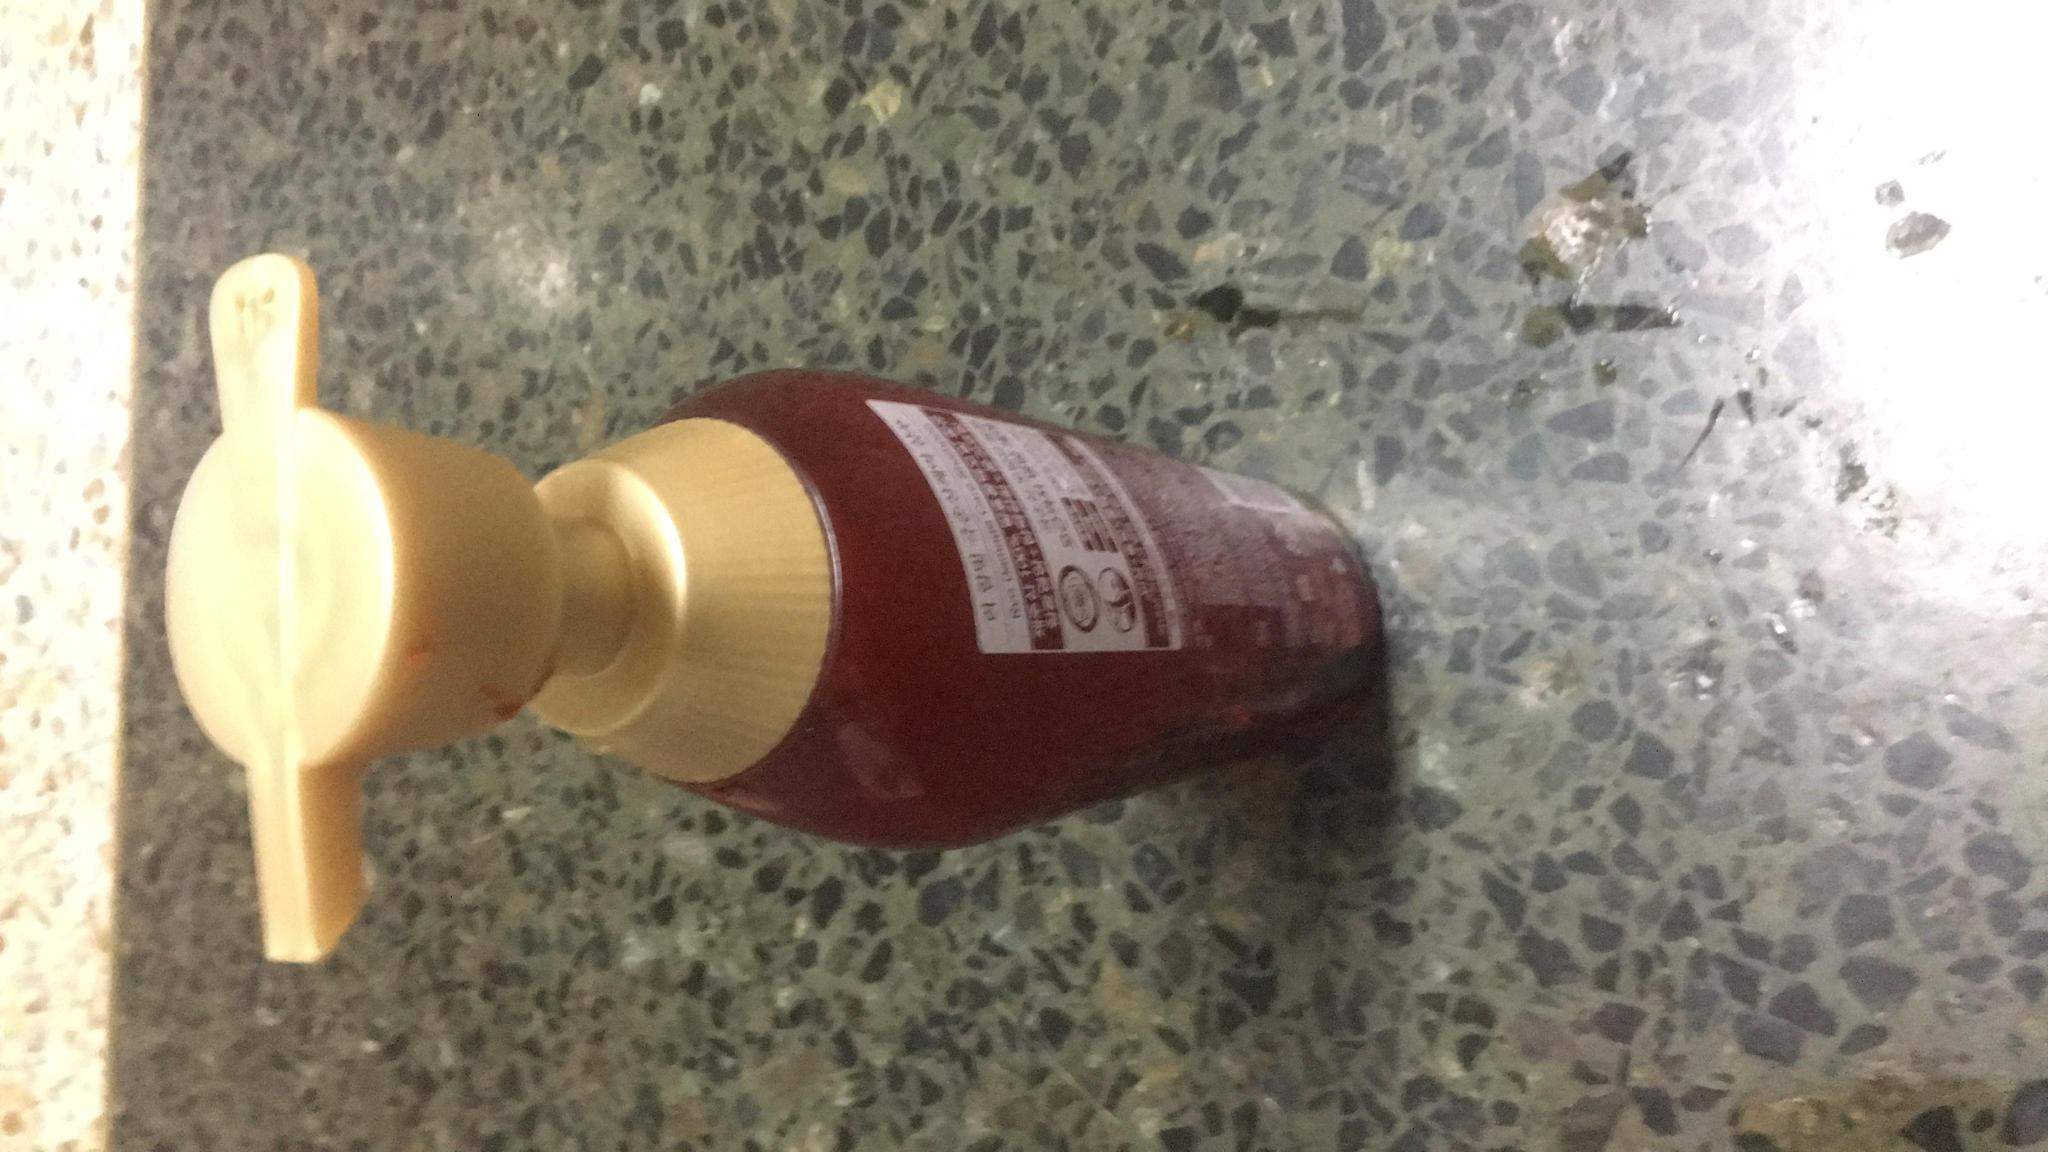bottle: (156, 236, 1390, 982)
